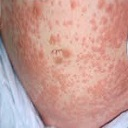Pemphigoid: (6, 1, 44, 74), (85, 2, 128, 52), (94, 63, 127, 103), (39, 77, 67, 111)
